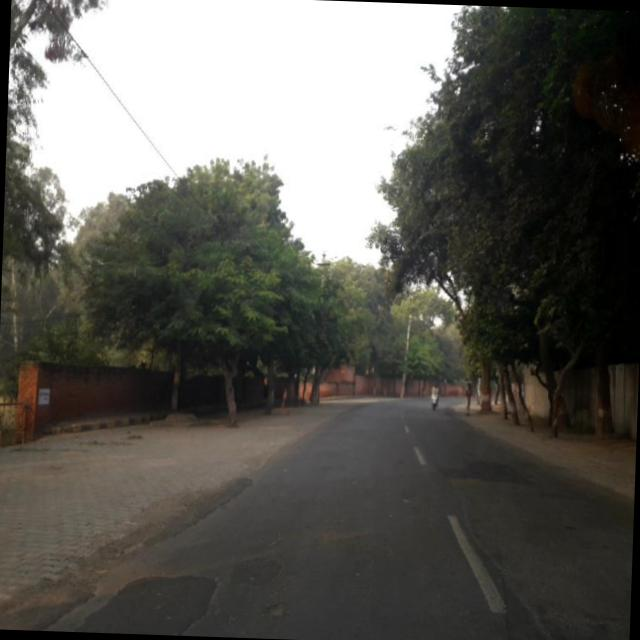pothole: (258, 592, 292, 618)
